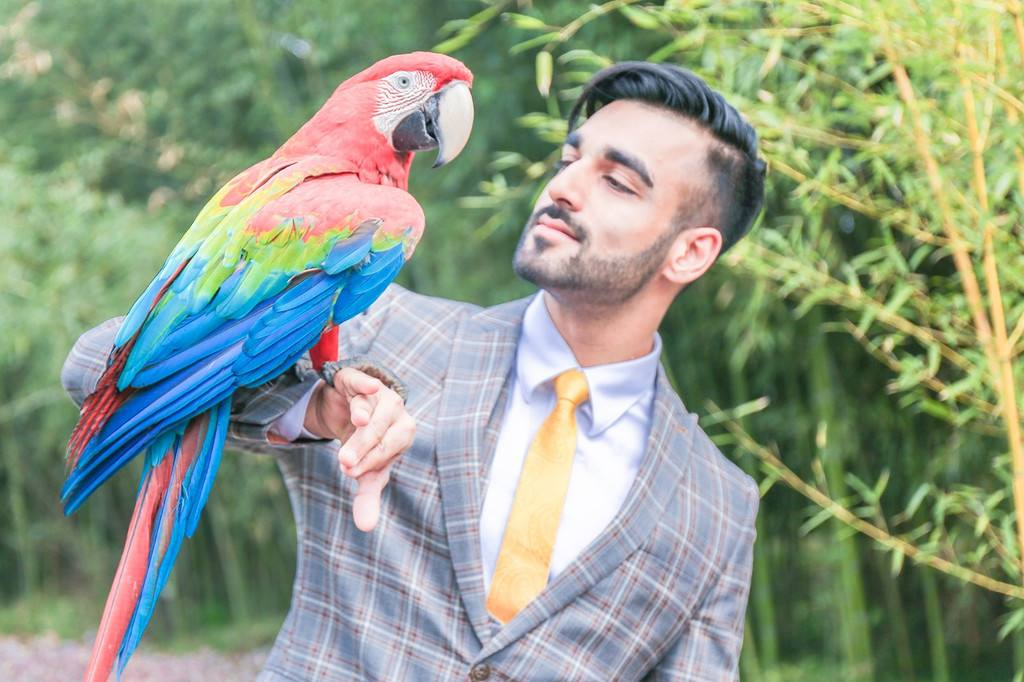bird: (135, 51, 479, 367)
